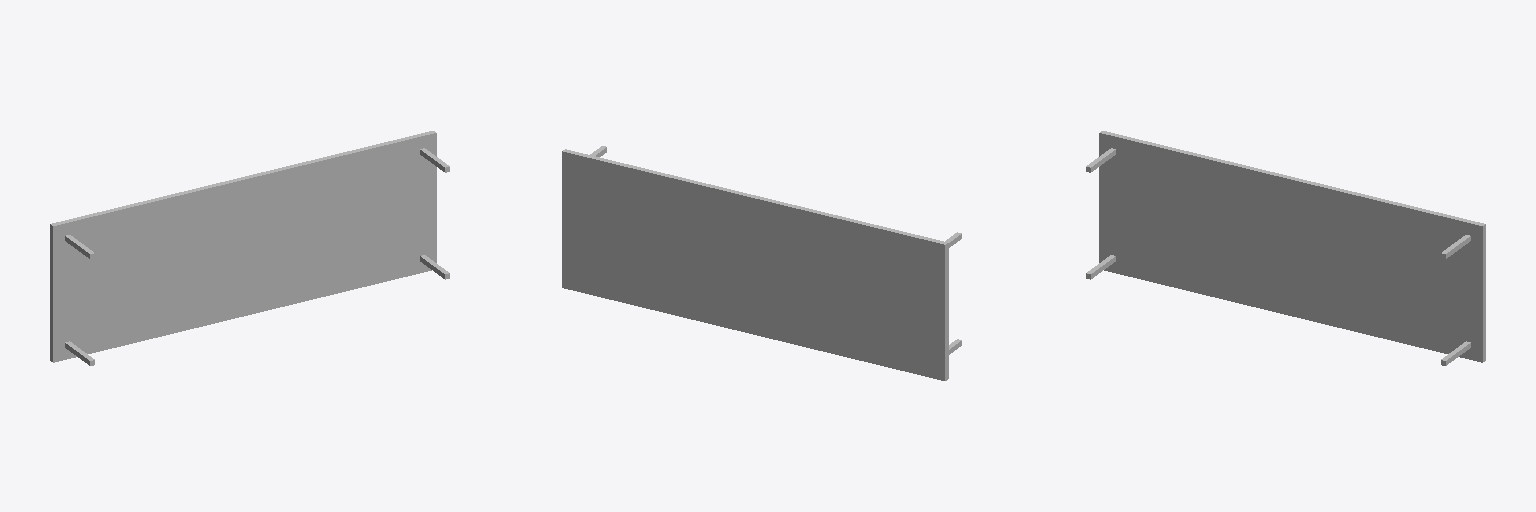
The model's file is random_table43.obj.
3 views of the same model, side by side, from view 1: azimuth 30°, elevation 25°; view 2: azimuth 150°, elevation 25°; view 3: azimuth 330°, elevation 25° (orthographic).
Parts seen in each view (by area): view 1: Table_Cube.410; view 2: Table_Cube.410; view 3: Table_Cube.410.
Part boxes in pixels (x1,y1,x2,y2): Table_Cube.410: (50,131,436,362); Table_Cube.410: (562,149,948,380); Table_Cube.410: (1099,131,1485,362).
Bounding box in the file's own units: 12.85 × 4.38 × 1.65.